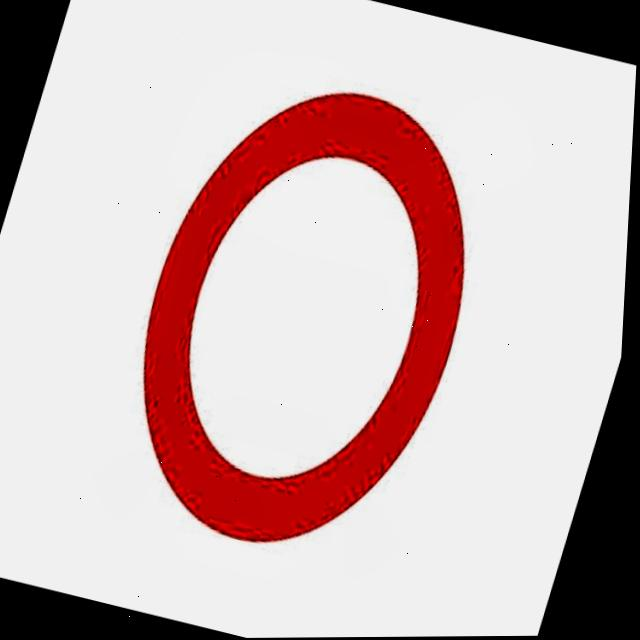Bien_bao_duong_cam: (85, 53, 526, 580)
